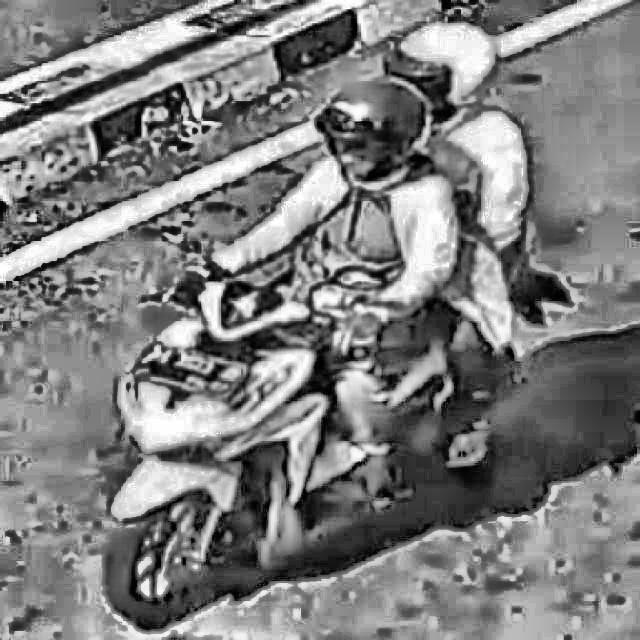motorcycle: (105, 219, 565, 625)
